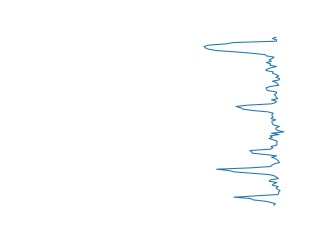distalBar: (202, 34, 279, 83)
interdistributaryEstuary: (231, 83, 286, 142)
underwaterNaturalLevee: (211, 142, 284, 209)
